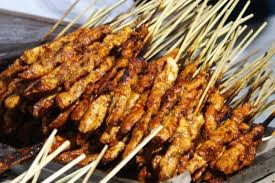sate: (3, 14, 262, 178)
